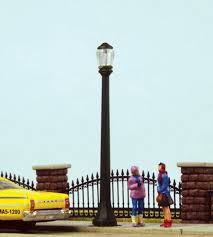light_pole: (88, 43, 122, 225)
